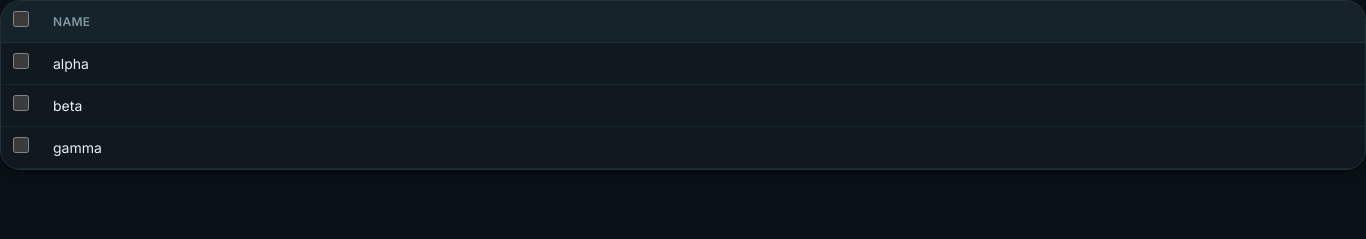
DataTable › select-all toggles every row and goes indeterminate for a partial pick
Click the checkbox named "Select row" next to "beta" at (21, 103), box [13,95,29,111]
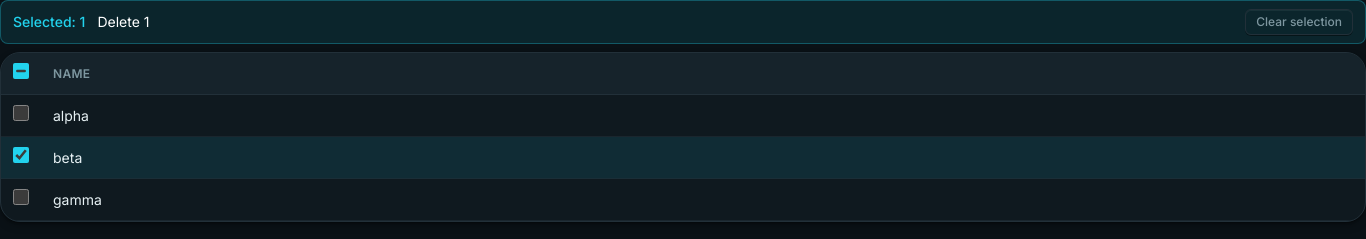
Click the checkbox named "Select all rows" at (21, 71), box [13,63,29,79]
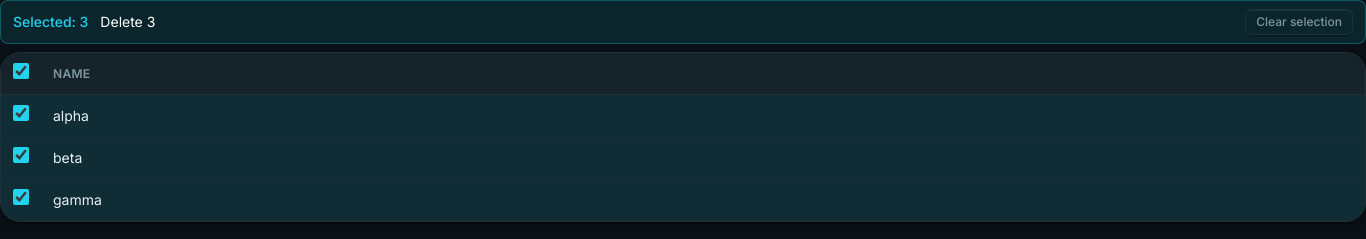
Now the checkbox named "Select all rows" is checked
Now the message shows "Selected: 3", box [13,13,88,30]
Click the checkbox named "Select all rows" at (21, 71), box [13,63,29,79]
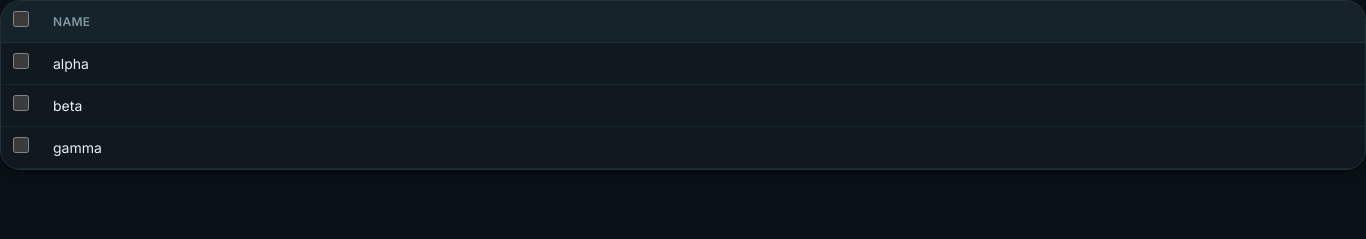
Now the message "Selected: 3 Delete 3 Clear selection" is gone
